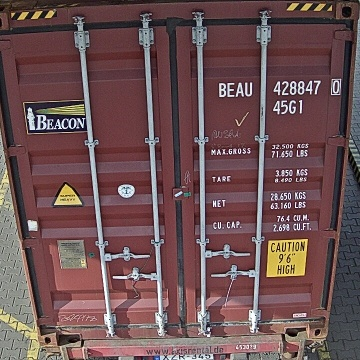serial_id: (219, 78, 340, 96)
